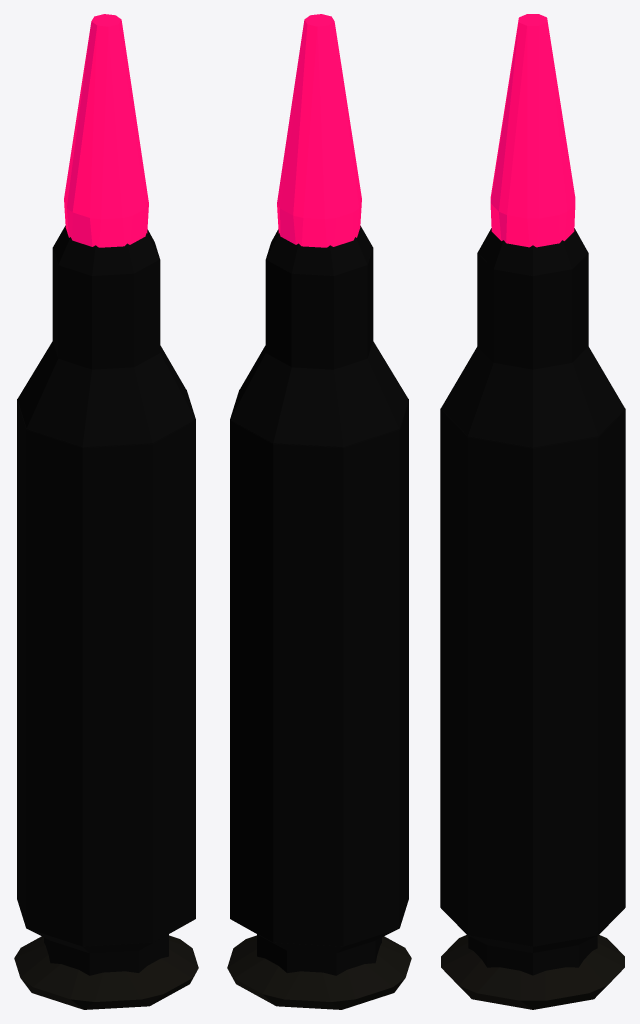
The model's file is HighVelocityBullets.fbx.
3 renders of one model, left to right at view 1: azimuth 30°, elevation 25°; view 2: azimuth 150°, elevation 25°; view 3: azimuth 270°, elevation 25°, orthographic.
Visible parts, largest first — view 1: Cone.001, Cone.003; view 2: Cone.001, Cone.003; view 3: Cone.001, Cone.003.
Part boxes in pixels (x1,y1,x2,y2): Cone.001: (14,225,198,1009); Cone.003: (64,14,148,247); Cone.001: (227,225,411,1009); Cone.003: (277,14,361,247); Cone.001: (440,228,625,1009); Cone.003: (490,14,575,247).
Bounding box in the file's own units: 37.95 × 215 × 37.95.
